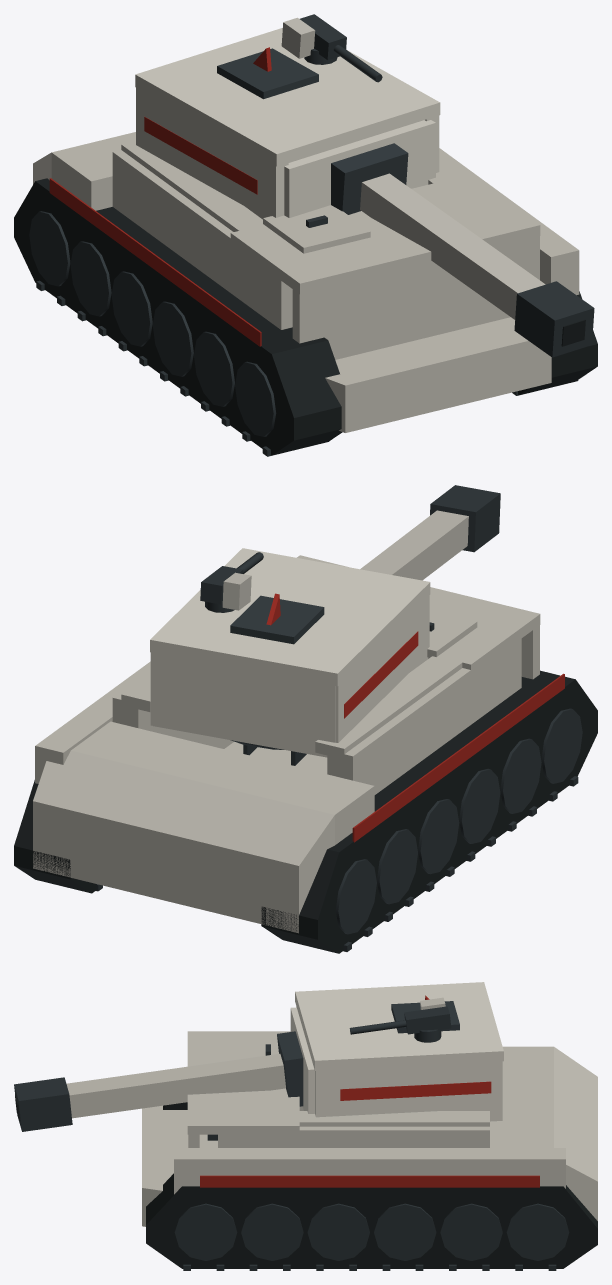
3 renders of one model, top to bottom at view 1: azimuth 30°, elevation 25°; view 2: azimuth 150°, elevation 25°; view 3: azimuth 270°, elevation 25°, orthographic. The views are drawn at different scales.
Visible parts, largest first — view 1: tank-painted, turret-fleet-armor, cannon-recoil-painted, barrel-fleet-machine, turret-fleet-machine, breakaway-1-painted, machine-gun-pitch-painted, turret-fleet-red; view 2: tank-painted, turret-fleet-armor, cannon-recoil-painted, breakaway-1-painted, turret-fleet-machine, machine-gun-pitch-painted, turret-fleet-red; view 3: tank-painted, turret-fleet-armor, breakaway-1-painted, cannon-recoil-painted, turret-fleet-red, barrel-fleet-machine, machine-gun-pitch-painted, turret-fleet-machine, machine-gun-recoil-painted.
Part boxes in pixels (box(x1,y1,x2,y2)): tank-painted: box(14, 132, 597, 456); turret-fleet-armor: box(135, 27, 440, 219); cannon-recoil-painted: box(360, 173, 594, 357); barrel-fleet-machine: box(331, 143, 408, 214); turret-fleet-machine: box(217, 48, 318, 99); breakaway-1-painted: box(439, 148, 579, 295); machine-gun-pitch-painted: box(281, 14, 346, 60); turret-fleet-red: box(144, 47, 271, 194); tank-painted: box(14, 555, 597, 953); turret-fleet-armor: box(150, 548, 430, 757); cannon-recoil-painted: box(360, 485, 500, 580); breakaway-1-painted: box(35, 661, 150, 783); turret-fleet-machine: box(230, 595, 324, 644); machine-gun-pitch-painted: box(200, 566, 251, 610); turret-fleet-red: box(266, 593, 418, 718); tank-painted: box(142, 1031, 597, 1270); turret-fleet-armor: box(290, 982, 503, 1121); breakaway-1-painted: box(174, 1148, 565, 1194); cannon-recoil-painted: box(14, 1053, 285, 1131); turret-fleet-red: box(340, 995, 491, 1100); barrel-fleet-machine: box(277, 1031, 303, 1106); machine-gun-pitch-painted: box(404, 997, 451, 1034); turret-fleet-machine: box(391, 1001, 459, 1033); machine-gun-recoil-painted: box(349, 1020, 406, 1034).
Bounding box in the file's own units: 21.11 × 17.75 × 42.56.
